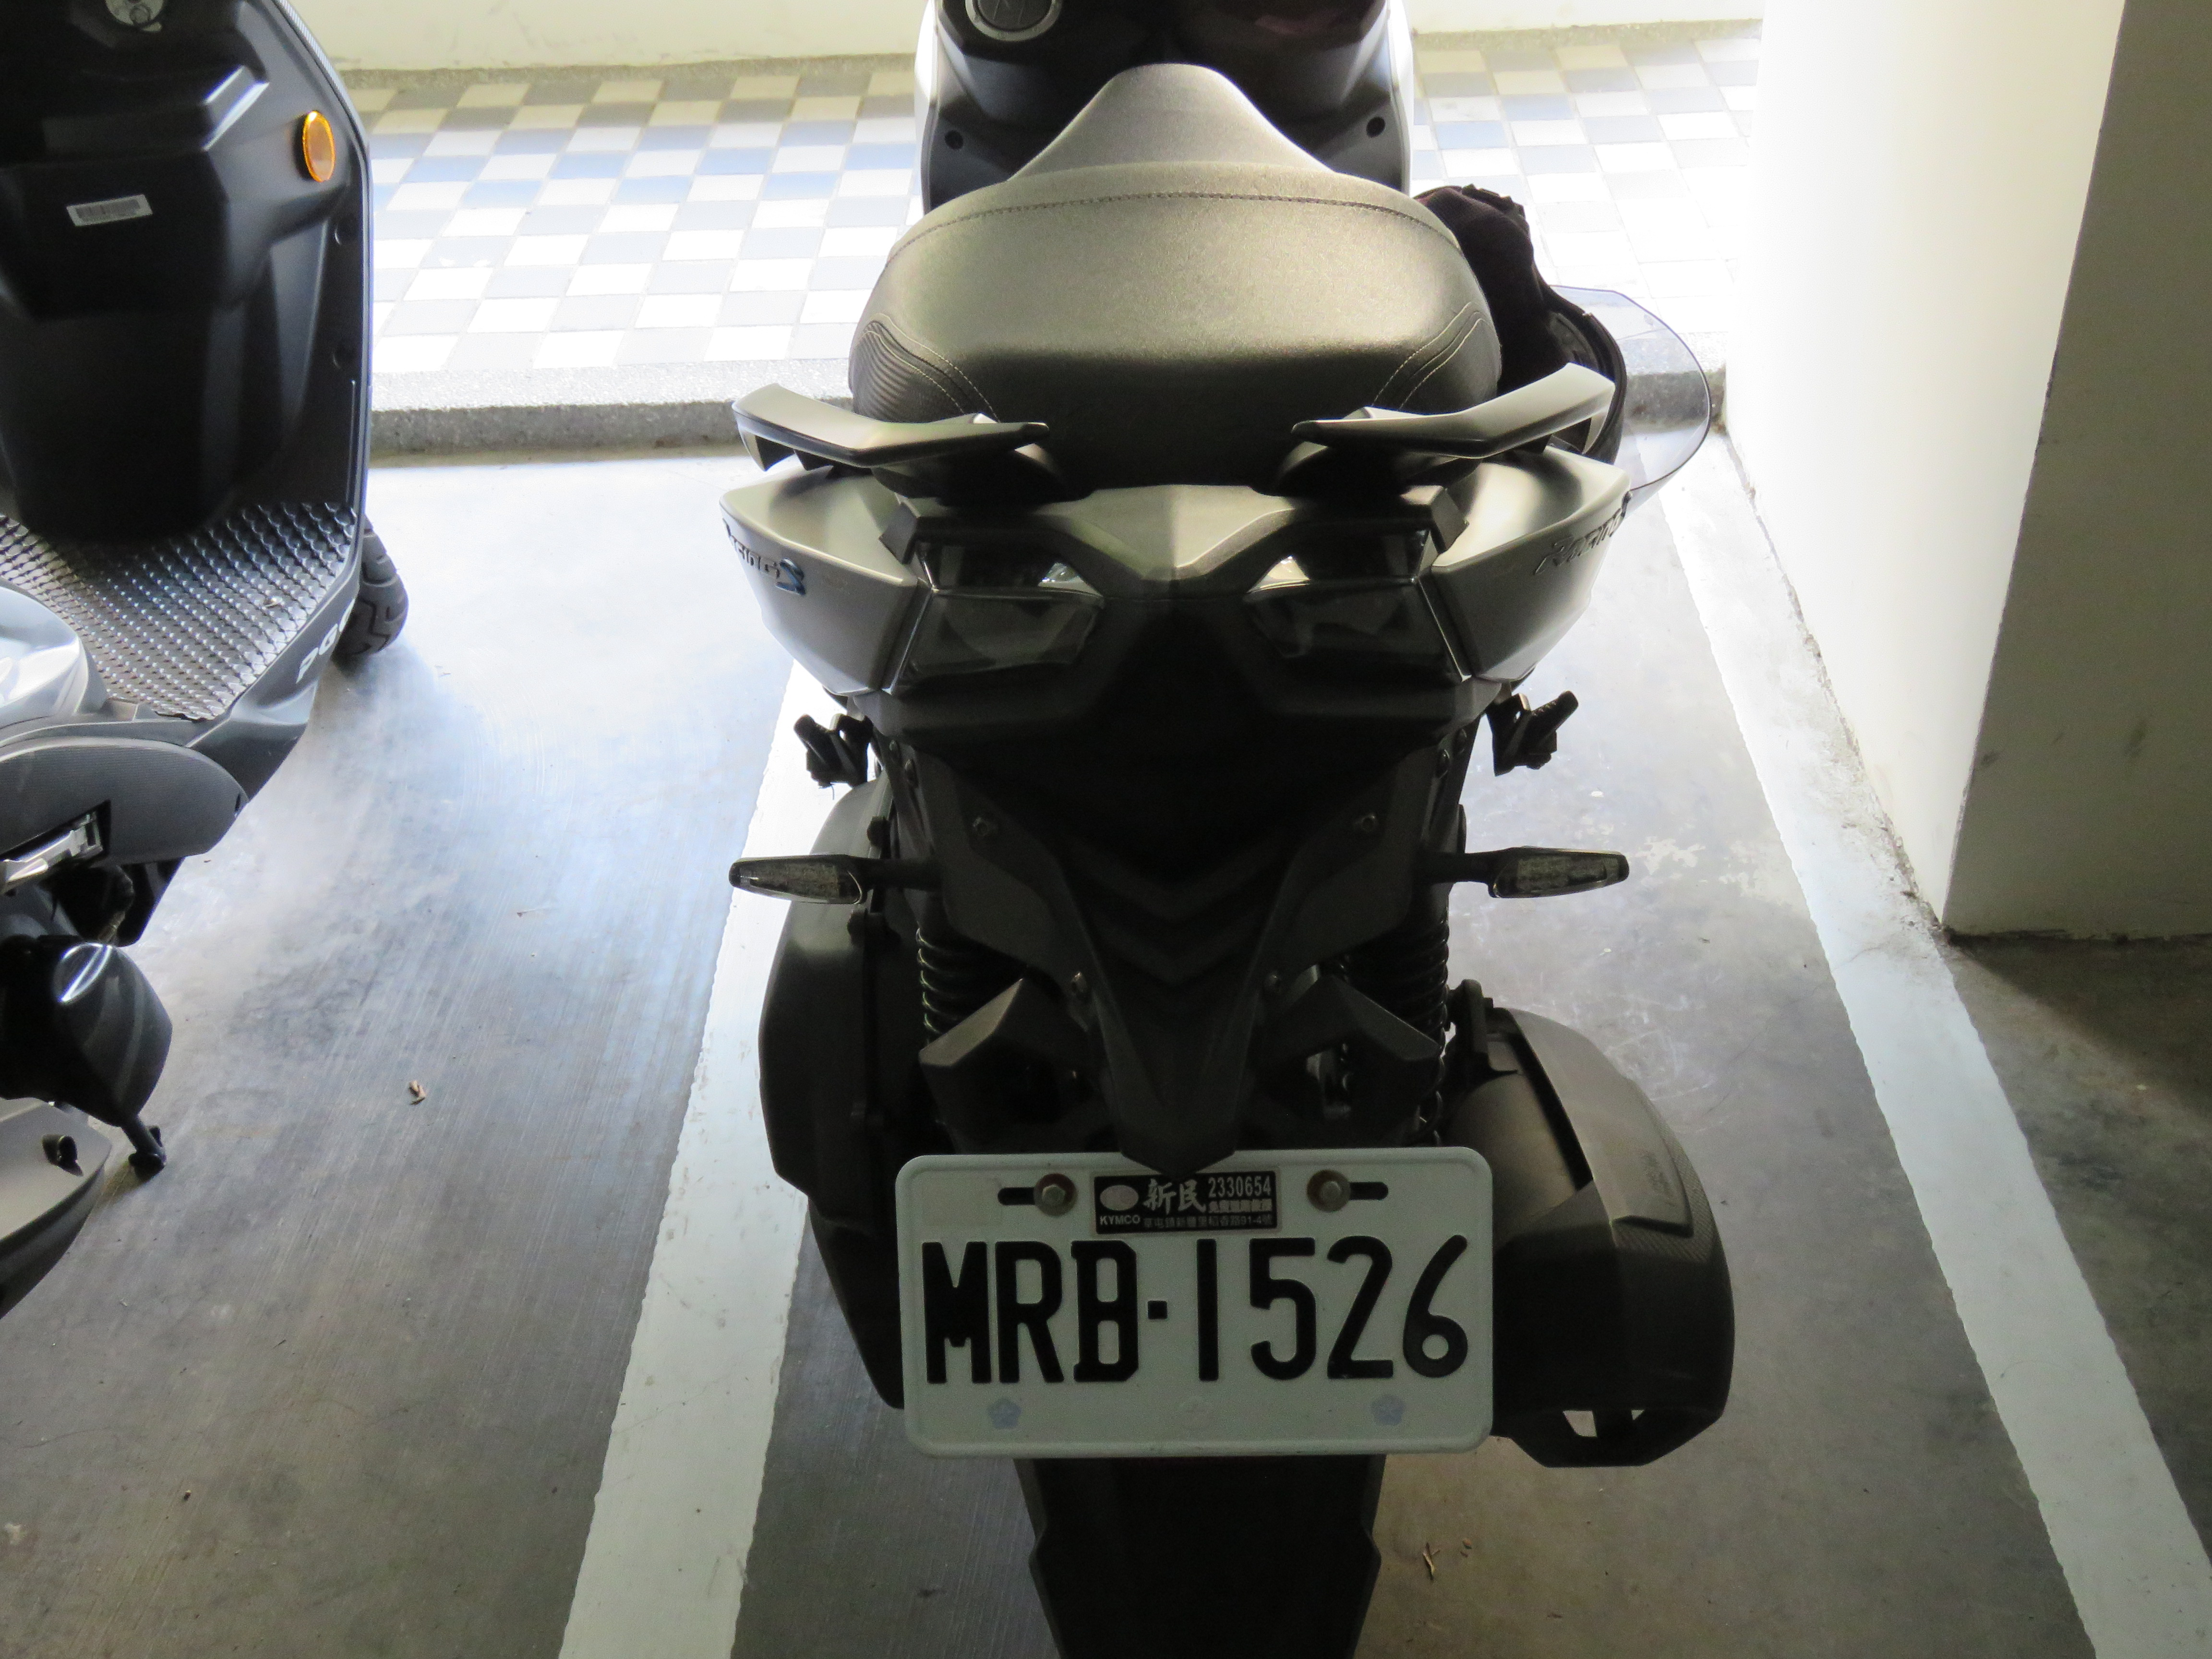car_card: (899, 1159, 1484, 1443)
moto: (719, 0, 1632, 1624)
